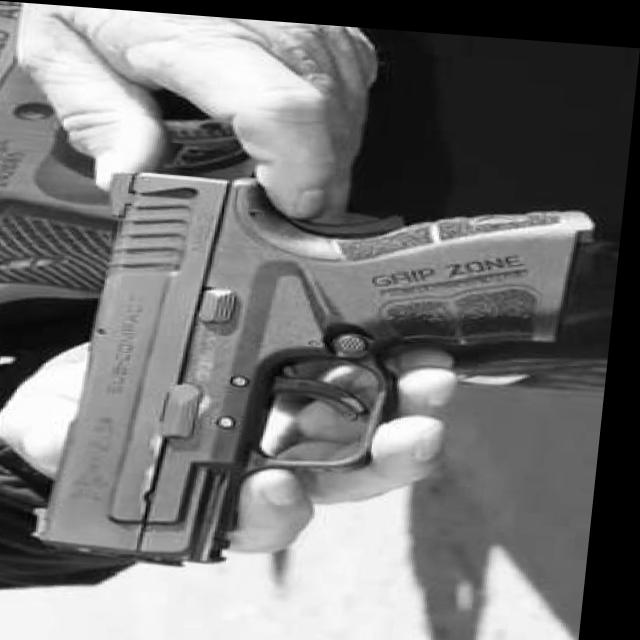handgun: (40, 162, 605, 588)
